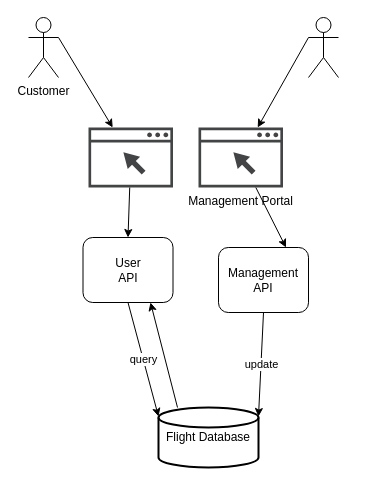
The diagram is 378 pixels wide and 486 high, and some of its shapes have lost their labels. The centre of each missing label's shape, as x and y in pixels:
"Travel Agency" goes at (x=323, y=47).
"User Portal" goes at (x=130, y=157).
